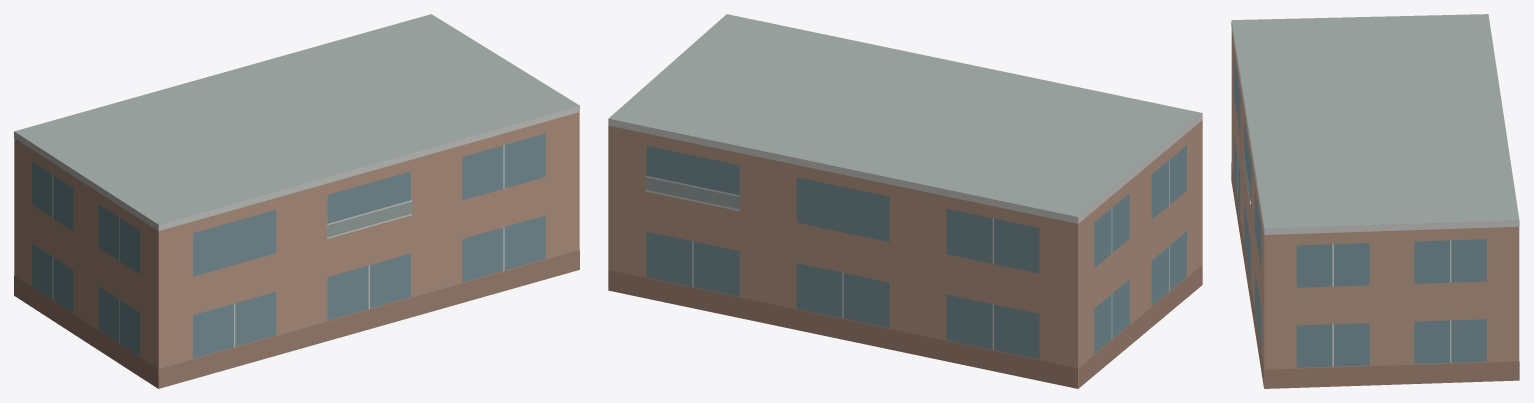
The model's file is survey-upis-32757124.glb.
3 views of the same model, side by side, from view 1: azimuth 30°, elevation 25°; view 2: azimuth 150°, elevation 25°; view 3: azimuth 270°, elevation 25° (orthographic). The views are drawn at different scales.
Visible parts, largest first — view 1: survey-upis-32757124.tmp; view 2: survey-upis-32757124.tmp; view 3: survey-upis-32757124.tmp.
Boxes of the visible parts, x1,y1,x2,y2 form: survey-upis-32757124.tmp: [14, 14, 579, 388]; survey-upis-32757124.tmp: [608, 14, 1202, 388]; survey-upis-32757124.tmp: [1231, 14, 1519, 388].
Bounding box in the file's own units: 17.53 × 6.1 × 9.95.
